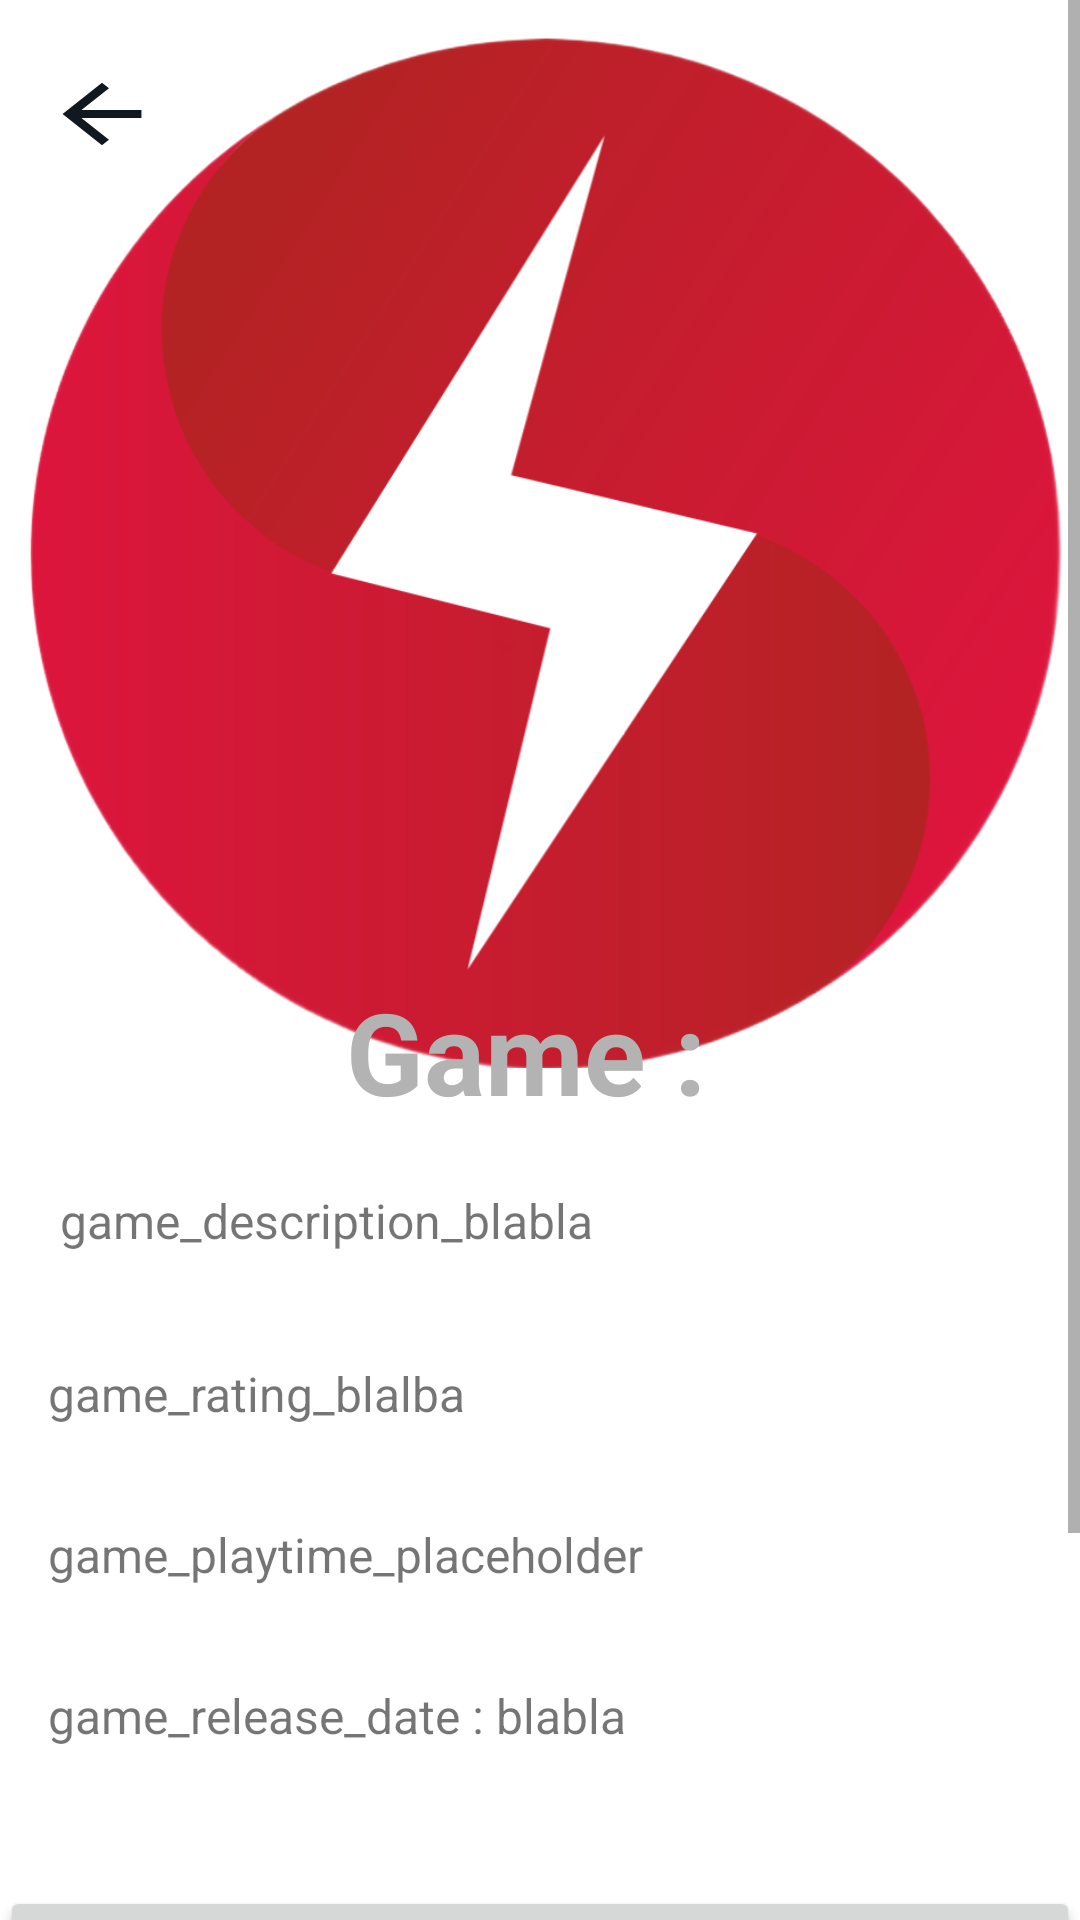

Where icons sit on this 1080px×1920px app screen, as rect(x1, y1, x2, y2):
arrow back: rect(63, 83, 142, 145)
